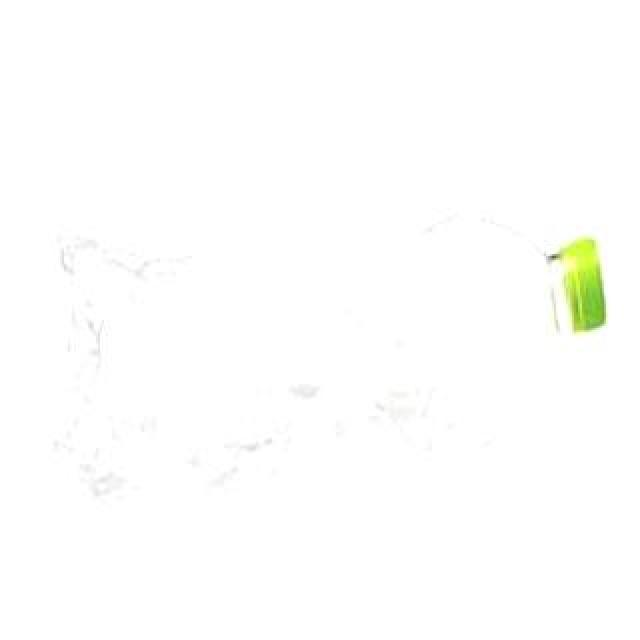Pet_Bottle: (42, 211, 618, 513)
